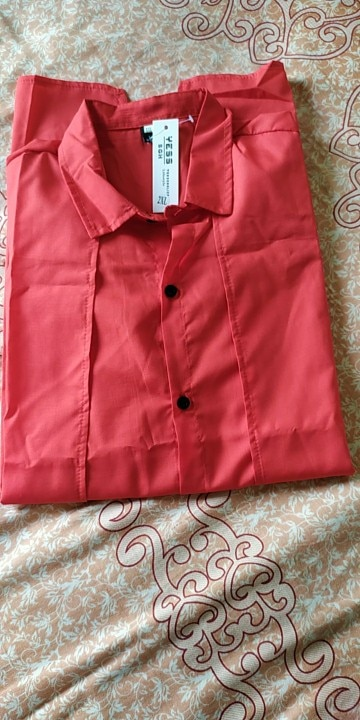shirts: (1, 76, 337, 483)
